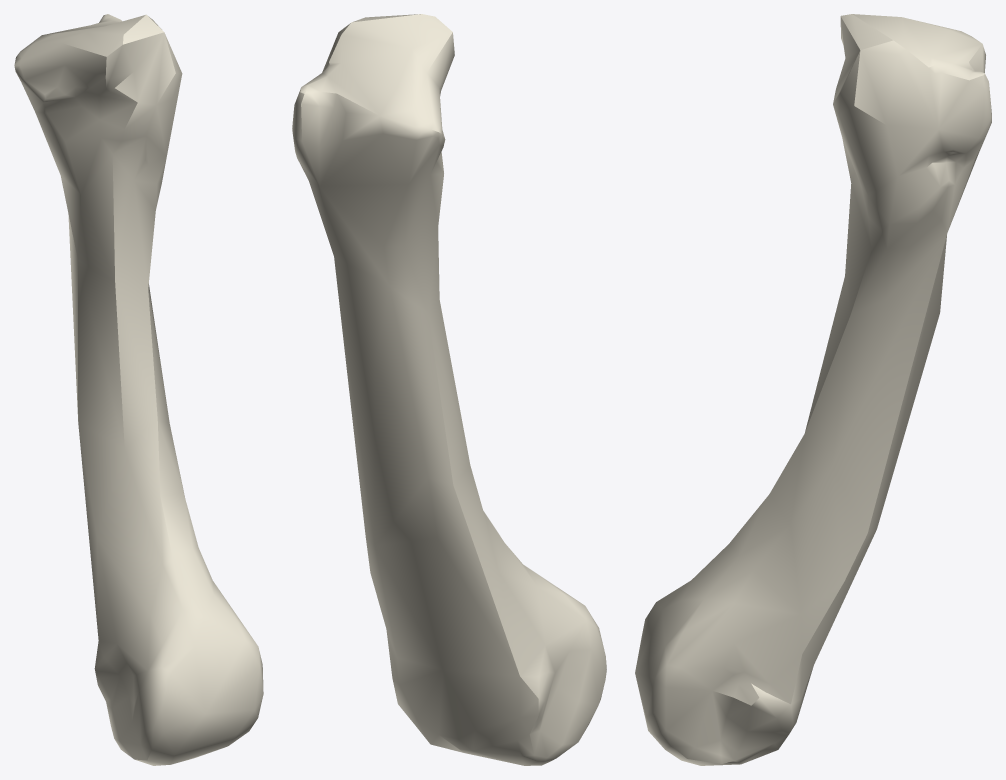
The model's file is fma24471_fj6360.glb.
3 views of the same model, side by side, from view 1: azimuth 30°, elevation 25°; view 2: azimuth 150°, elevation 25°; view 3: azimuth 270°, elevation 25° (orthographic). The views are drawn at different scales.
Visible parts, largest first — view 1: FMA24471_FJ6360; view 2: FMA24471_FJ6360; view 3: FMA24471_FJ6360.
Boxes of the visible parts, bbox=[...] form: FMA24471_FJ6360: bbox=[14, 14, 263, 765]; FMA24471_FJ6360: bbox=[292, 14, 606, 765]; FMA24471_FJ6360: bbox=[635, 14, 991, 765].
Bounding box in the file's own units: 0.0124 × 0.0596 × 0.0259.
